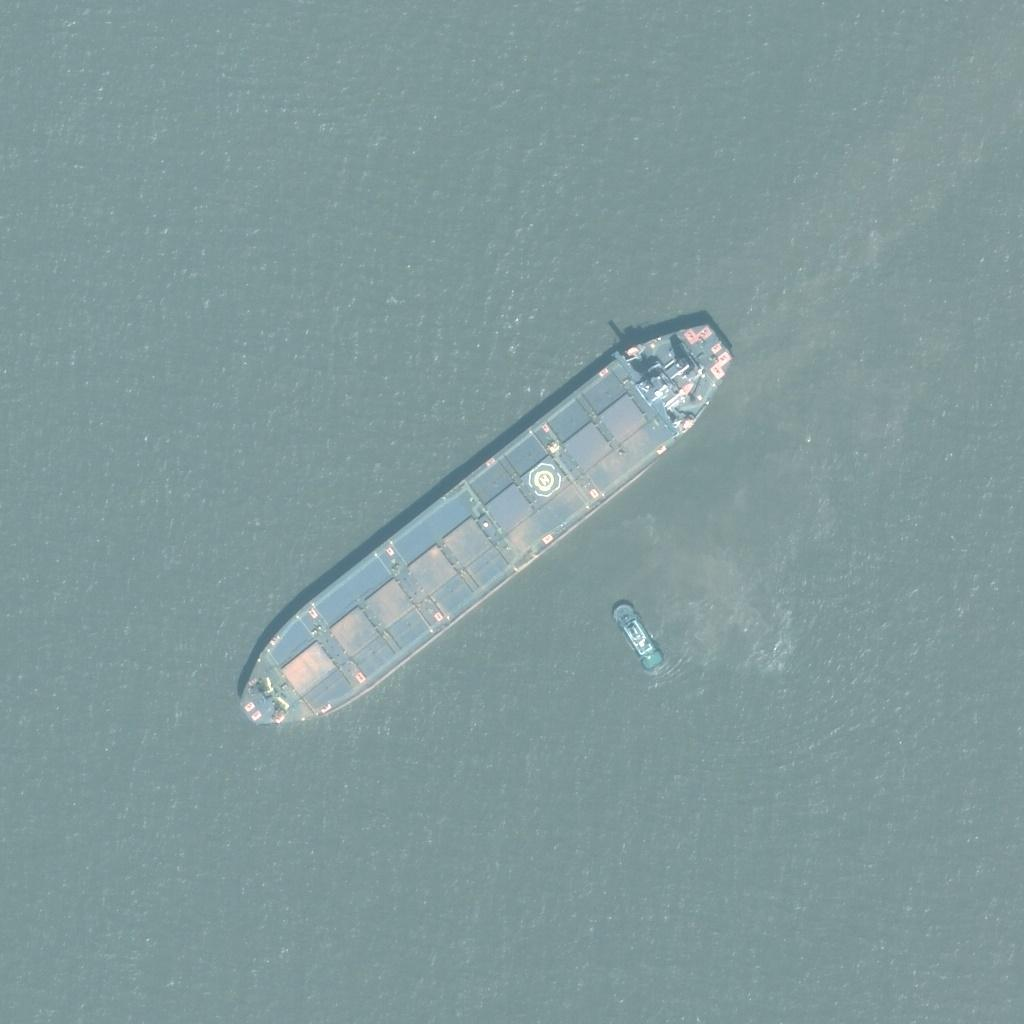ship: (240, 316, 736, 724)
